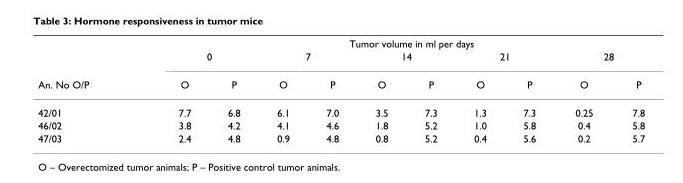table: (37, 37, 644, 143)
table column: (37, 37, 132, 143), (132, 37, 208, 143), (554, 37, 611, 143), (257, 37, 307, 143), (405, 37, 455, 143), (504, 37, 554, 143), (208, 37, 257, 143), (307, 37, 356, 143), (356, 37, 405, 143), (455, 37, 504, 143), (611, 37, 644, 143)
table column header: (37, 37, 644, 98)
table row: (37, 70, 644, 98), (37, 49, 644, 70), (37, 98, 644, 118), (37, 118, 644, 131), (37, 37, 644, 49), (37, 131, 644, 143)
table spanning cell: (132, 37, 644, 49), (37, 37, 132, 98), (132, 49, 257, 70), (257, 49, 356, 70), (356, 49, 455, 70), (455, 49, 554, 70), (554, 49, 644, 70)
